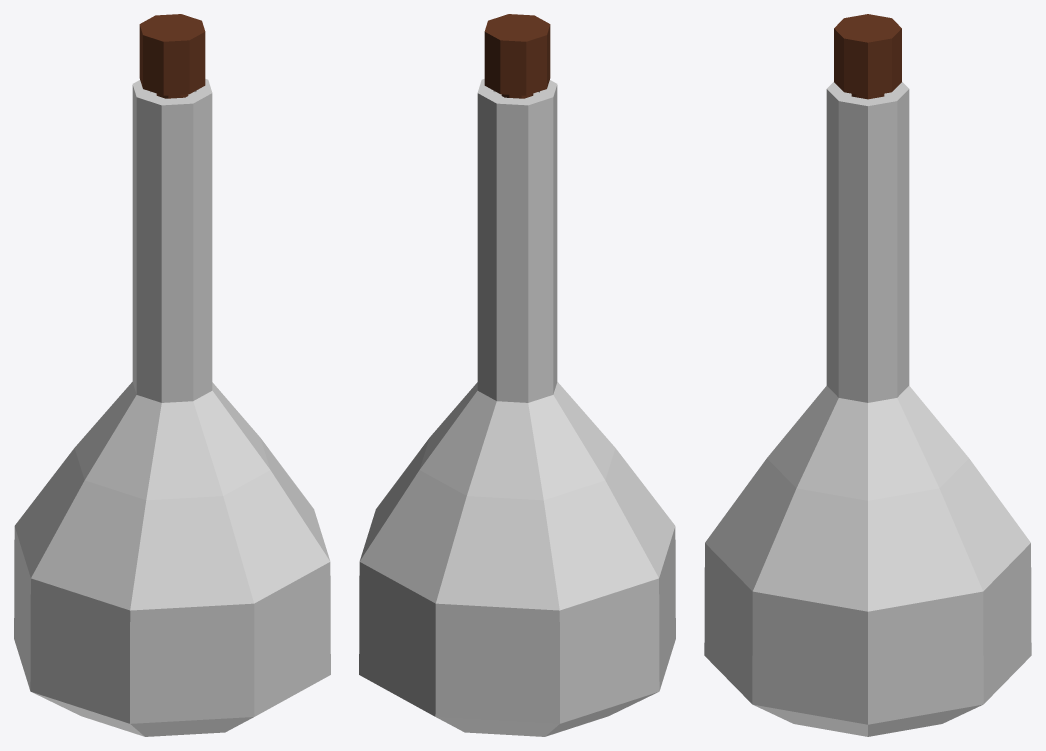
Rendered from Potion2.glb.
3 views of the same model, side by side, from view 1: azimuth 30°, elevation 25°; view 2: azimuth 150°, elevation 25°; view 3: azimuth 270°, elevation 25° (orthographic).
Parts seen in each view (by area): view 1: Potion2; view 2: Potion2; view 3: Potion2.
Boxes of the visible parts, x1=… form: Potion2: x1=14, y1=14, x2=330, y2=736; Potion2: x1=359, y1=14, x2=675, y2=736; Potion2: x1=704, y1=14, x2=1031, y2=736.
Size of the model in its own units: 0.4769 by 1.07 by 0.4769.
